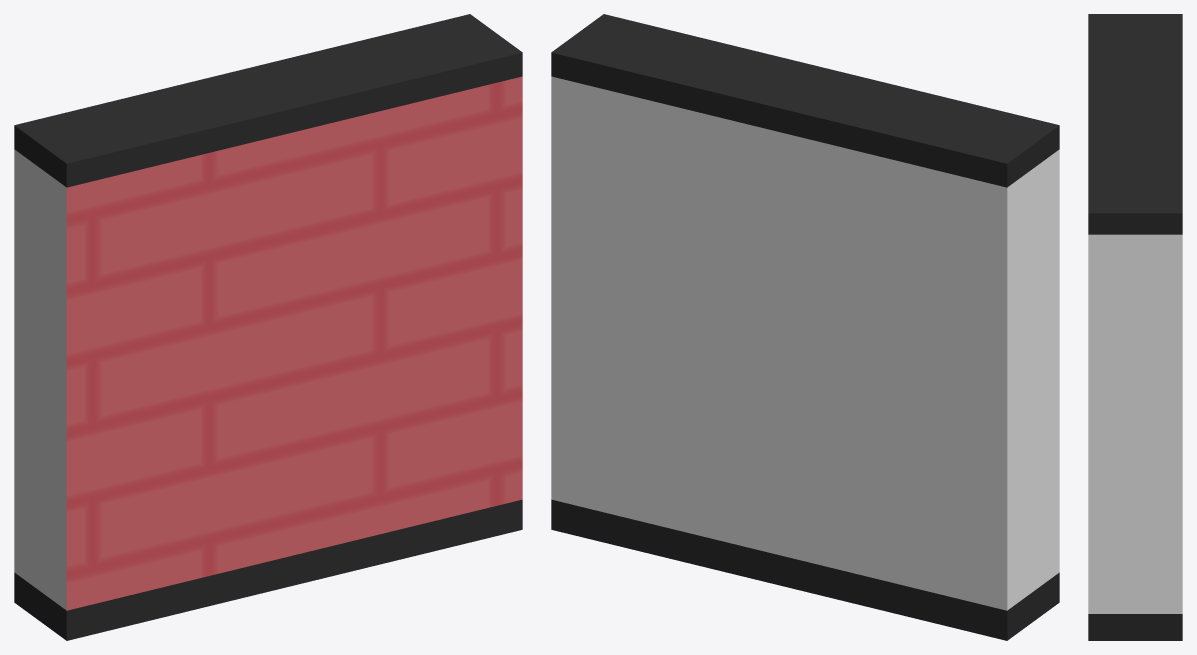
Rendered from GAMEJAMHERO - Walls(Inside Wrap).fbx.
3 views of the same model, side by side, from view 1: azimuth 30°, elevation 25°; view 2: azimuth 150°, elevation 25°; view 3: azimuth 270°, elevation 25° (orthographic). The views are drawn at different scales.
Parts seen in each view (by area): view 1: Wall(Outside Wrap).001; view 2: Wall(Outside Wrap).001; view 3: Wall(Outside Wrap).001.
Boxes of the visible parts, left/top/right/bottom form: Wall(Outside Wrap).001: left=14, top=14, right=522, bottom=640; Wall(Outside Wrap).001: left=551, top=14, right=1059, bottom=640; Wall(Outside Wrap).001: left=1088, top=14, right=1182, bottom=640.
Size of the model in its own units: 500 by 500 by 100.
Materials: 1 (1 with a texture image).
